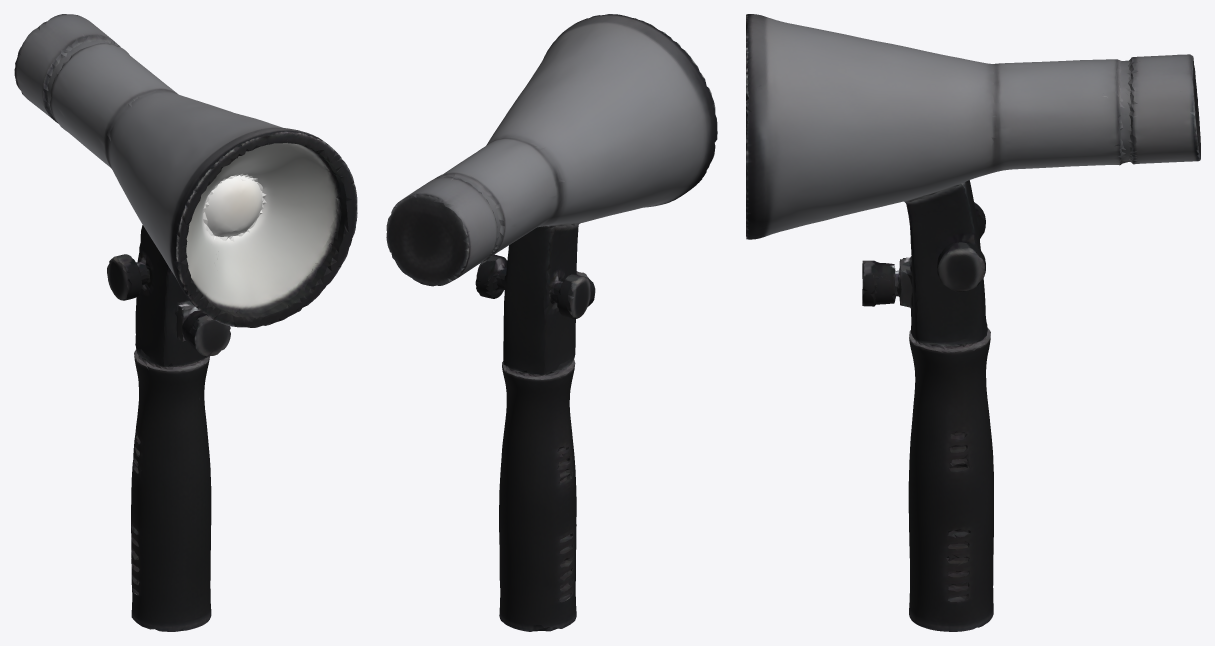
Rendered from otoscope.glb.
The picture shows the model from 3 angles, left to right: view 1: azimuth 30°, elevation 25°; view 2: azimuth 150°, elevation 25°; view 3: azimuth 270°, elevation 25°; orthographic projection. The views are drawn at different scales.
Parts seen in each view (by area): view 1: model; view 2: model; view 3: model.
Boxes of the visible parts, x1,y1,x2,y2 form: model: (14,14,357,631); model: (386,14,717,631); model: (746,14,1200,631).
Size of the model in its own units: 0.6552 by 1.9 by 1.33.
Materials: 1 (1 with a texture image).
